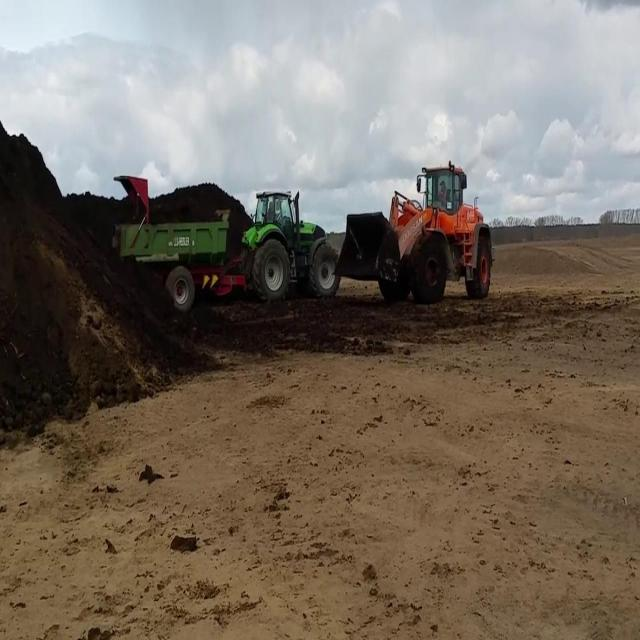Dump Truck: (110, 172, 340, 314)
Loader: (333, 162, 493, 304)
